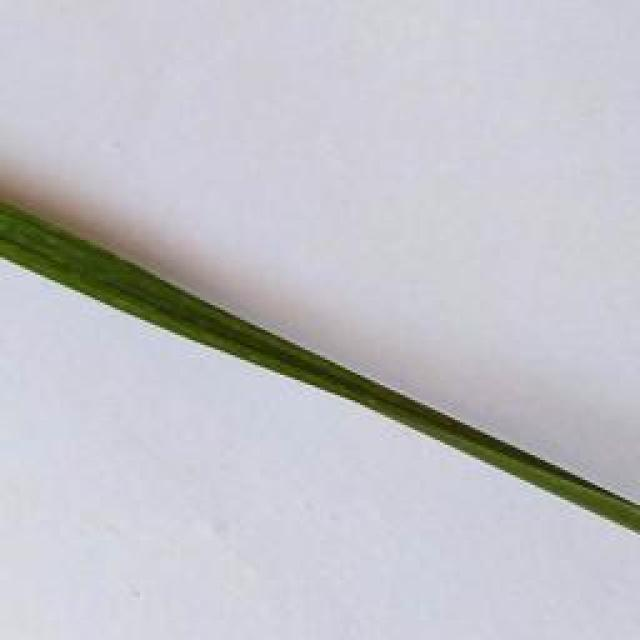Healthy-Plant: (0, 202, 640, 533)
